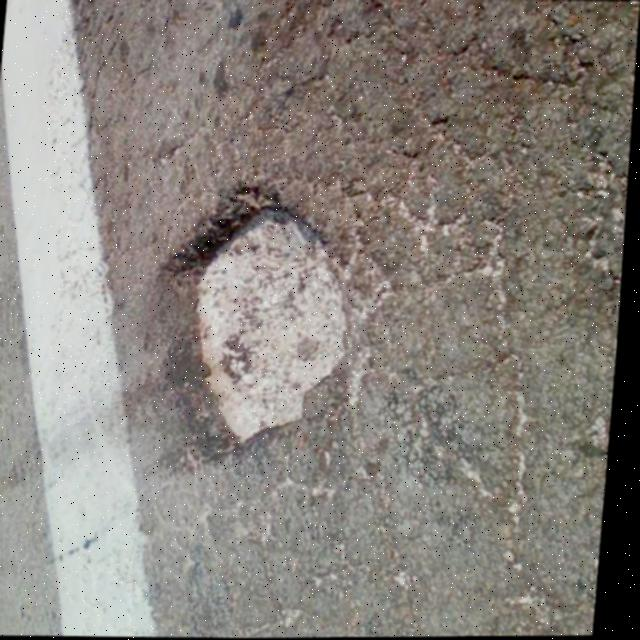Pothole: (123, 192, 376, 476)
